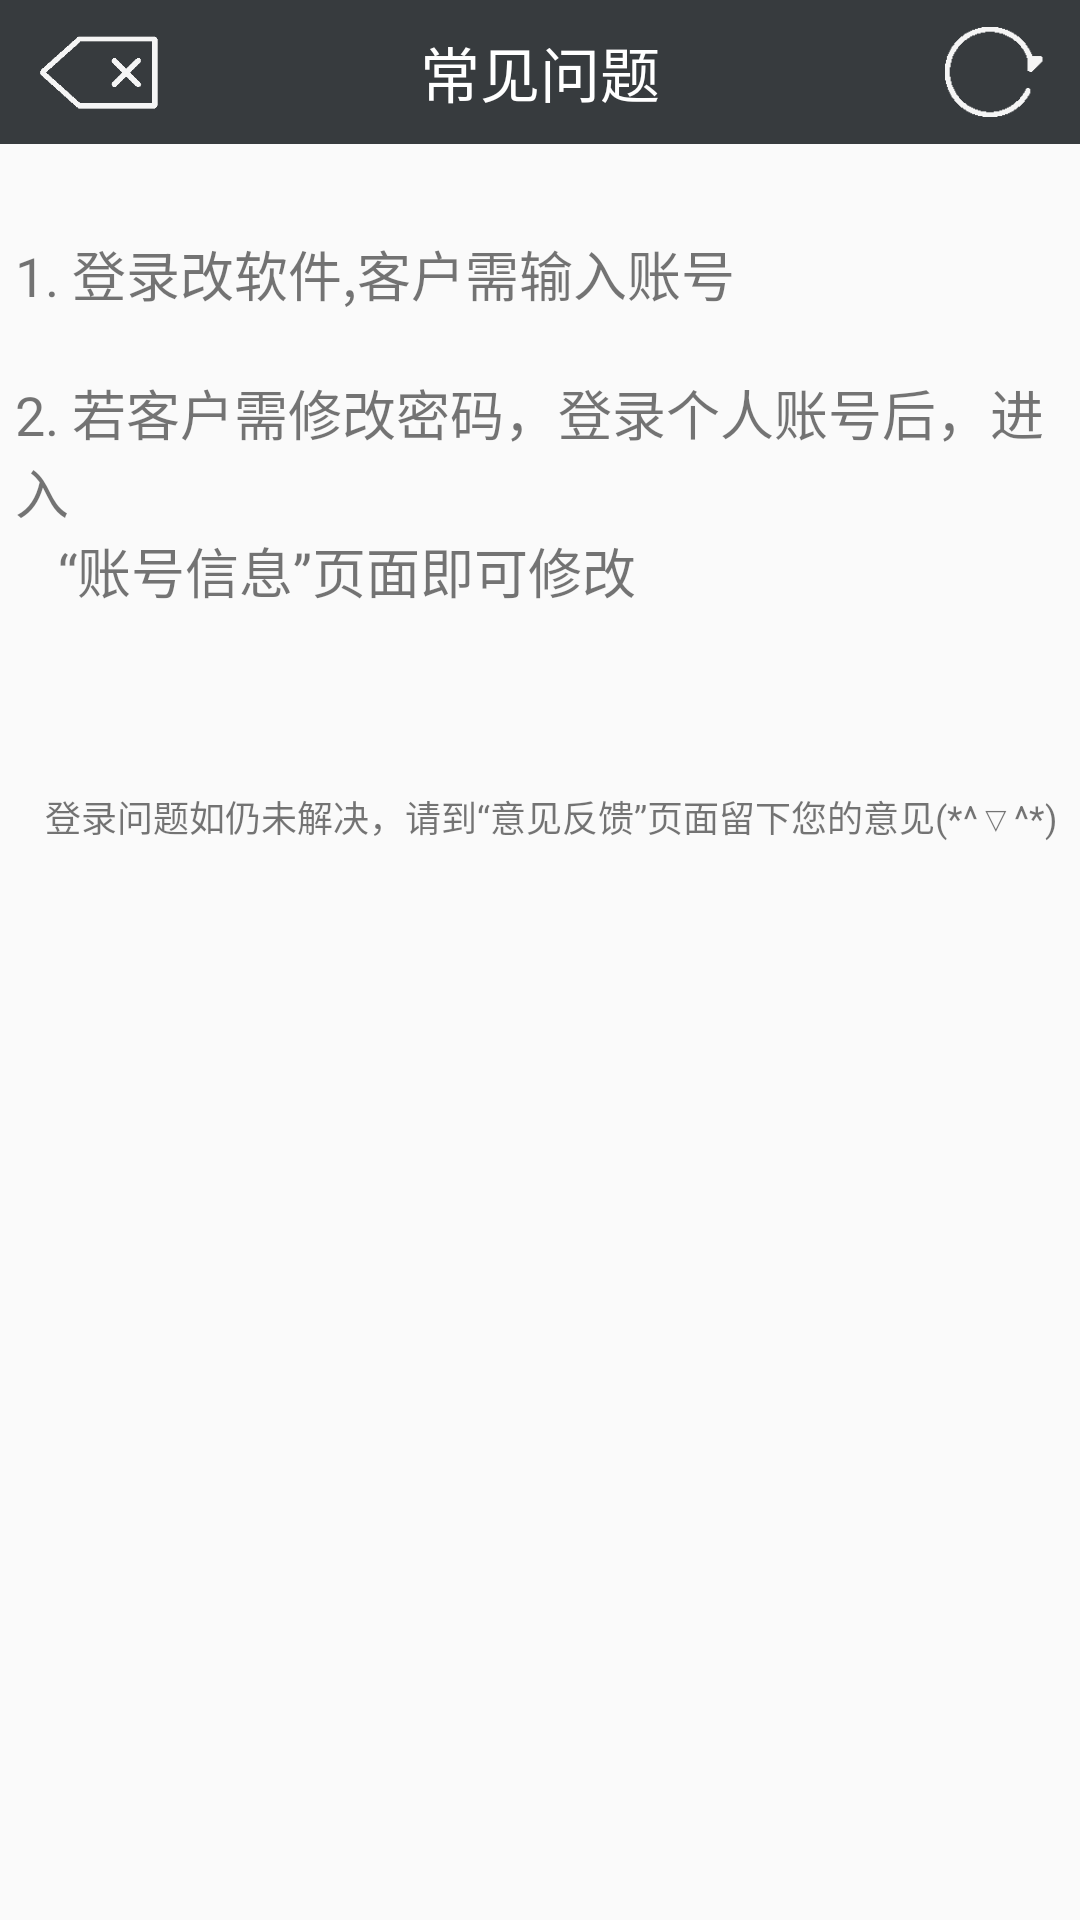

Icon bounding boxes for this 1080×1920 phone screenshot, format box(x1, y1, x2, y2):
shuaxin: box(945, 27, 1043, 117)
